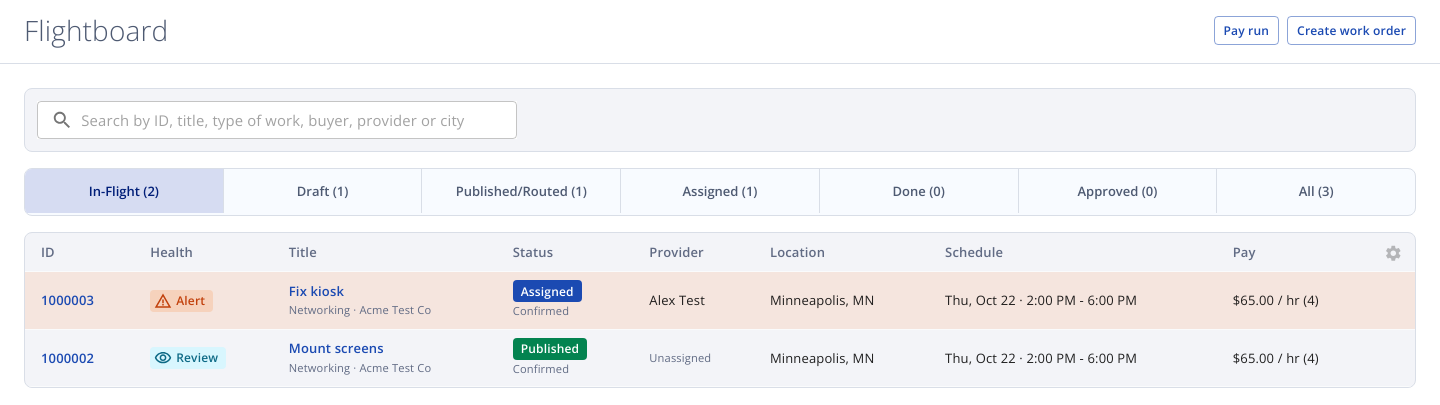
Test: FlightboardPage › switches tabs
Check: the text "Fix kiosk" is shown, box [289,282,344,300]
Click the tab "Draft (1)" at (323, 191), box [224,169,422,213]
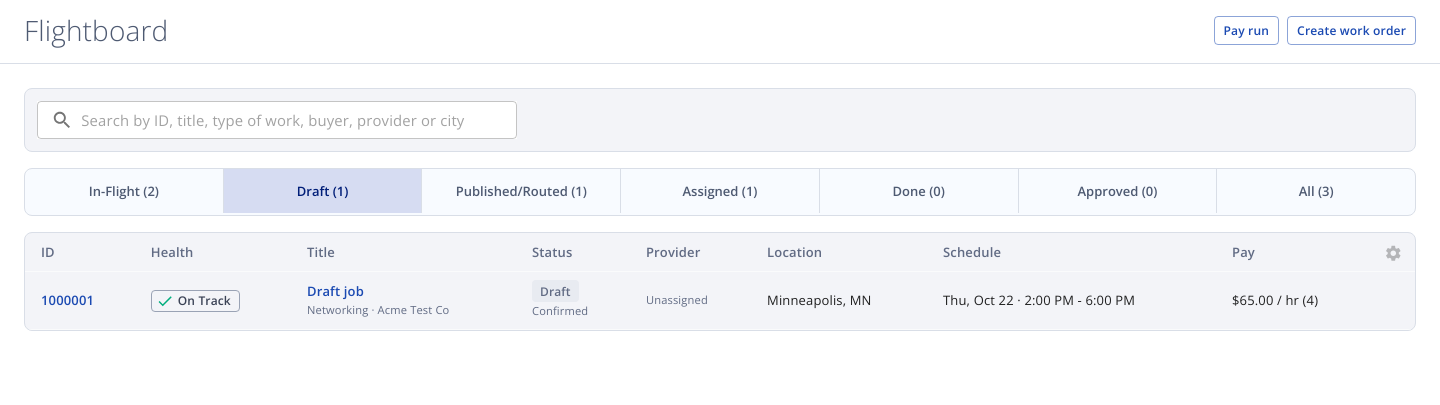
Check: the text "Draft job" is shown, box [307,282,364,300]
Check: the text "Fix kiosk" is gone
